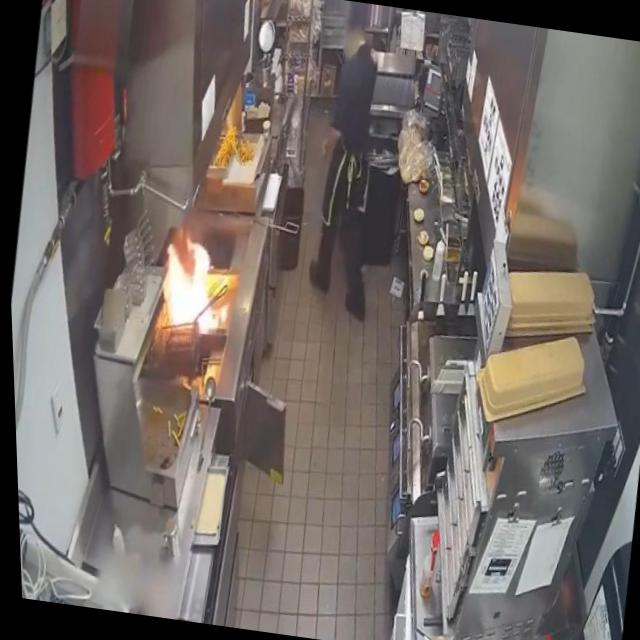fire: (149, 226, 230, 342)
